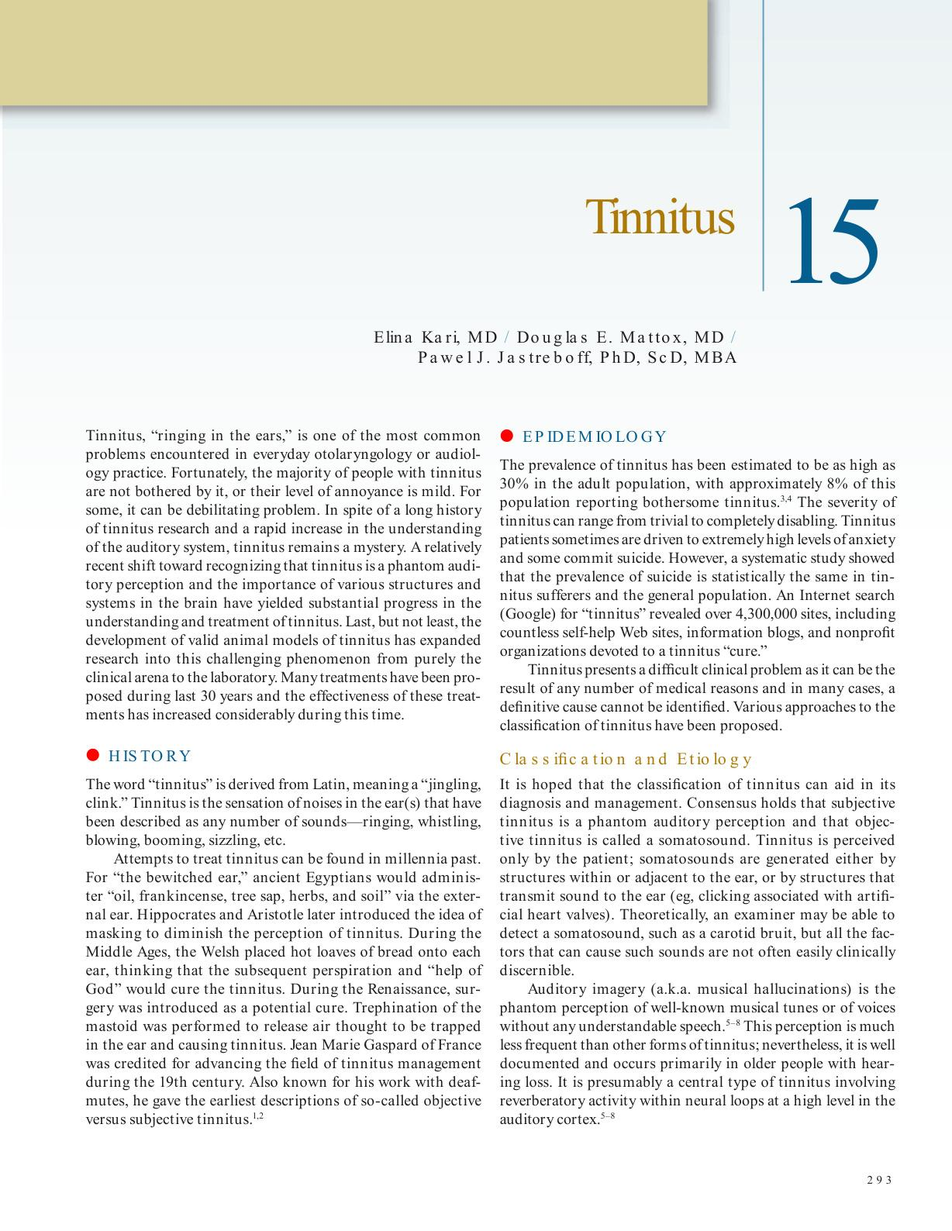chapter-heading: (580, 192, 739, 238)
section-heading: (521, 428, 667, 444), (108, 748, 192, 764)
sub-section-heading: (498, 749, 752, 770)
text: (84, 774, 485, 1129), (497, 775, 897, 1130), (80, 426, 483, 725), (497, 456, 899, 737)
